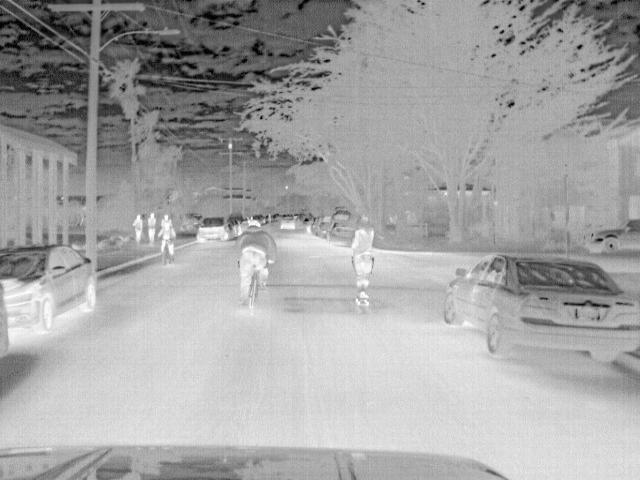car: (442, 251, 638, 366), (1, 243, 98, 334), (585, 216, 638, 253), (196, 216, 229, 243), (324, 220, 356, 242), (318, 214, 339, 235), (278, 212, 295, 229)
person: (239, 221, 276, 296), (351, 215, 377, 300), (158, 228, 176, 260), (131, 214, 145, 248), (145, 212, 159, 246), (160, 212, 173, 234)
